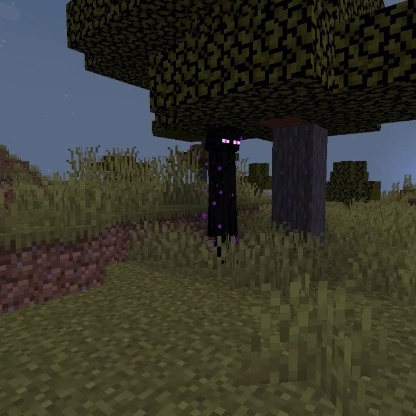enderman: (203, 123, 243, 266)
